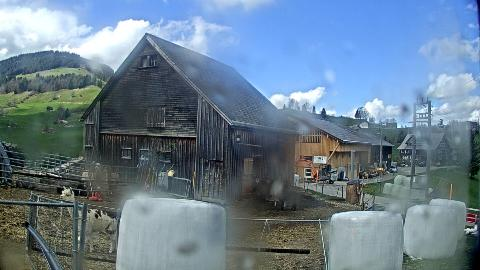car: (389, 166, 397, 172), (418, 162, 426, 166)
sheep: (60, 186, 118, 254), (272, 184, 298, 210), (57, 180, 93, 196), (15, 171, 44, 189), (82, 163, 102, 189), (104, 164, 120, 196), (270, 183, 288, 207)
